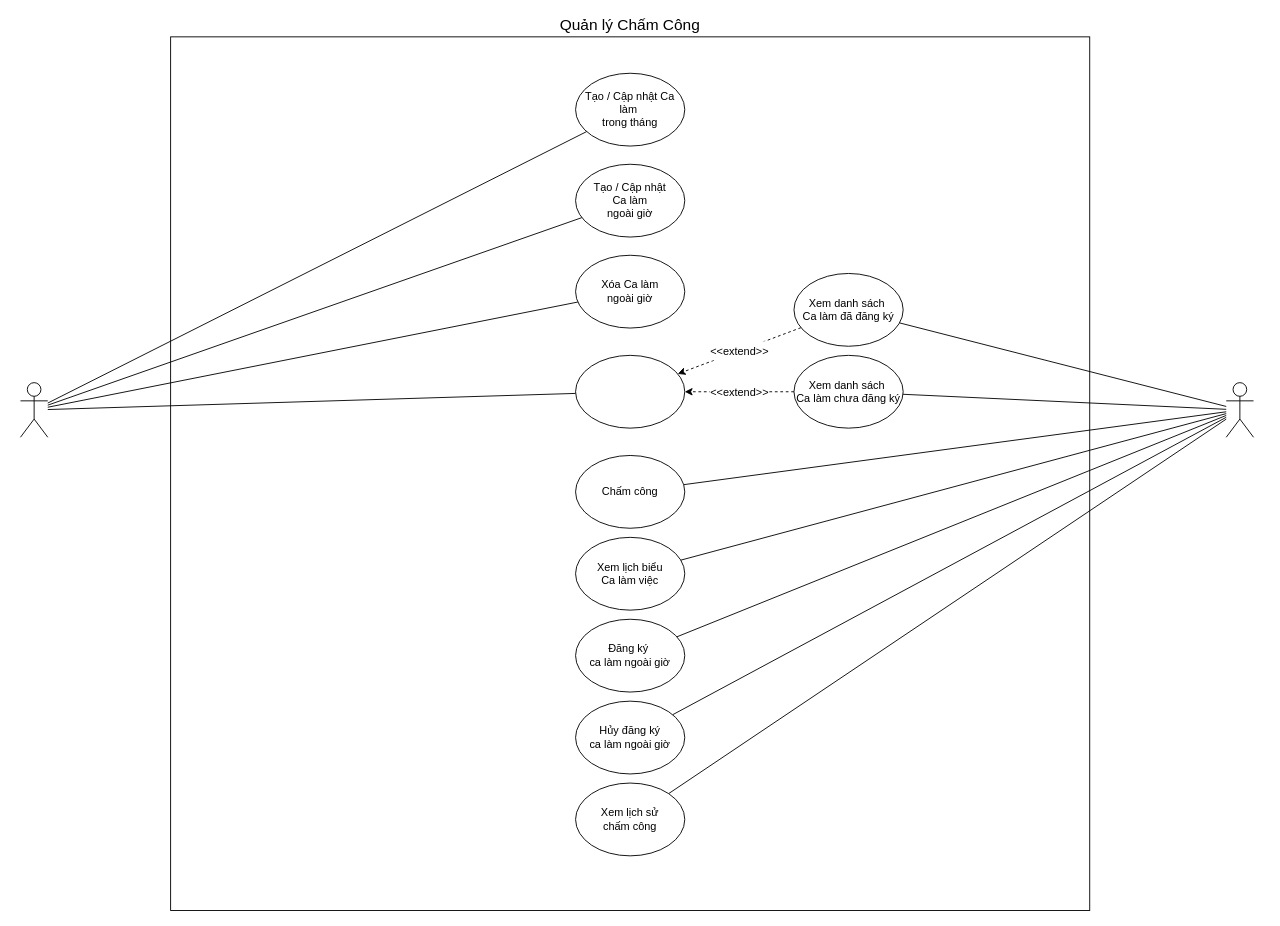
The diagram is 1280 pixels wide and 926 high, and some of its shapes have lost their labels. The centre of each missing label's shape, as x and y in pixels:
Nhân viên: (x=1239, y=409)
Quản lý: (x=34, y=409)
Xem danh sách Ca làm: (x=630, y=391)
